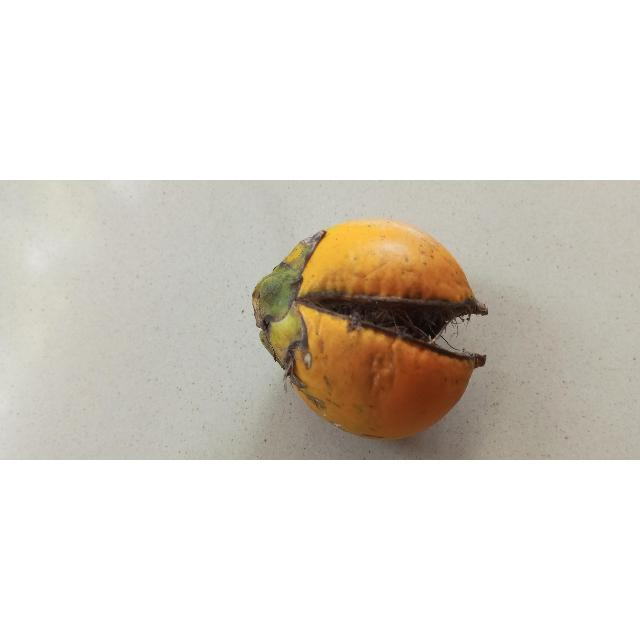damaged: (250, 218, 489, 442)
